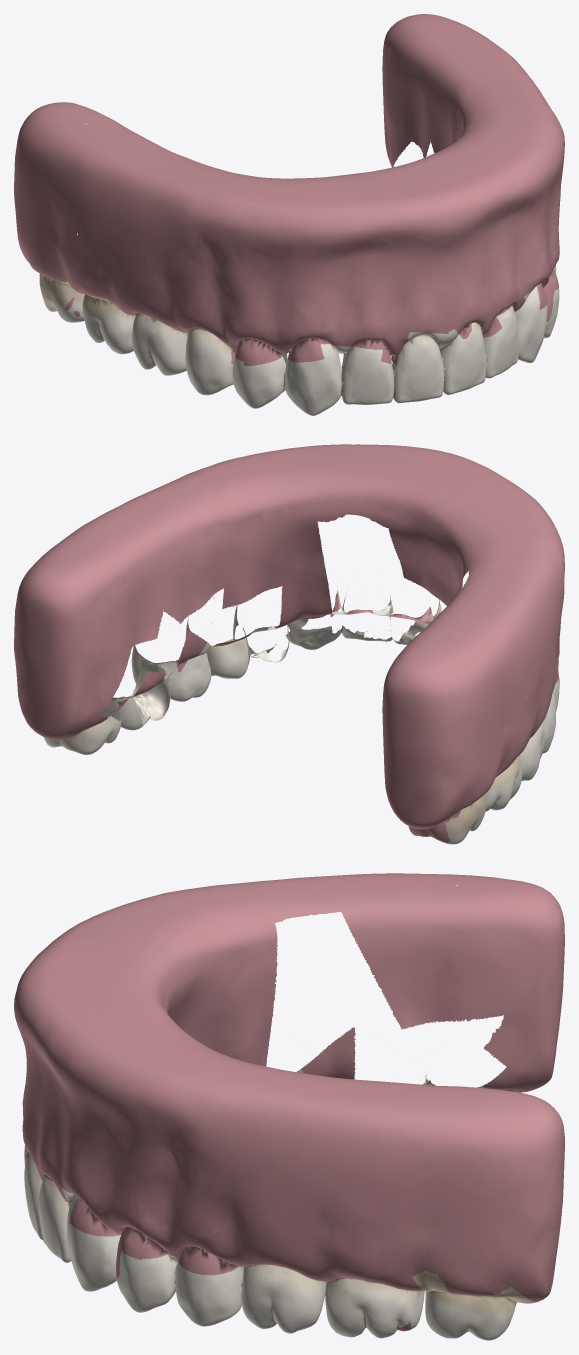
File: arcada_superior_lite.glb
3 renders of one model, top to bottom at view 1: azimuth 30°, elevation 25°; view 2: azimuth 150°, elevation 25°; view 3: azimuth 270°, elevation 25°, orthographic. The views are drawn at different scales.
Visible parts, largest first — view 1: mesh_node; view 2: mesh_node; view 3: mesh_node.
Boxes of the visible parts, left/top/right/bottom form: mesh_node: left=14, top=14, right=564, bottom=415; mesh_node: left=14, top=444, right=564, bottom=844; mesh_node: left=14, top=873, right=564, bottom=1340.
Size of the model in its own units: 1.9 by 0.8337 by 1.66.
